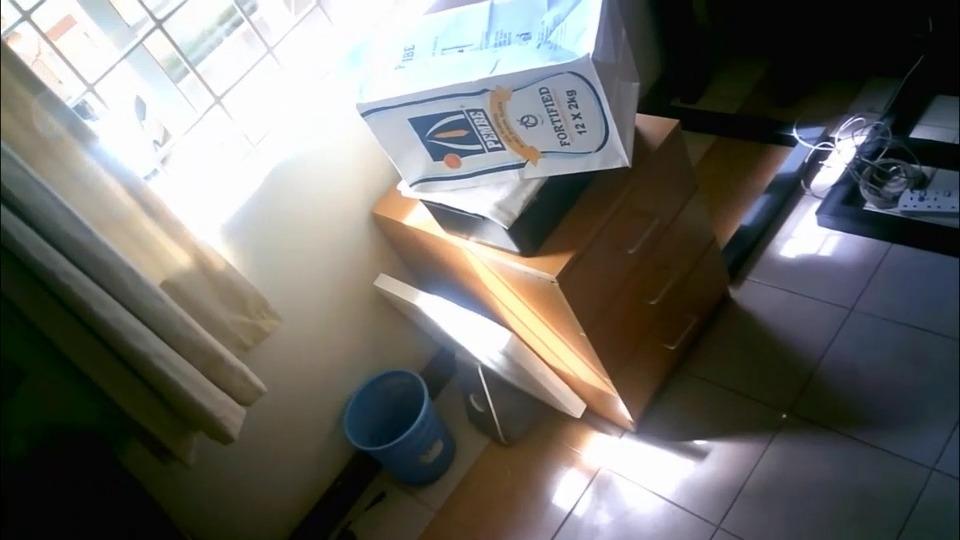wheat_flour_blue_label: (356, 2, 636, 186)
